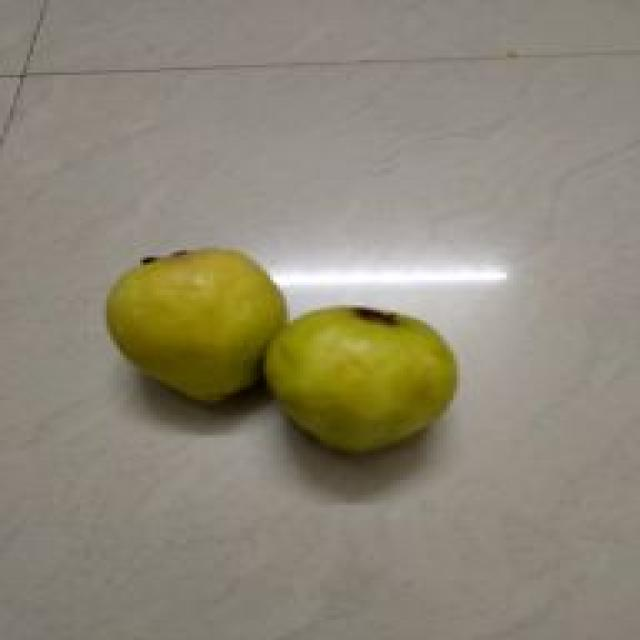Good_Guava: (263, 308, 460, 458), (103, 250, 290, 408)
